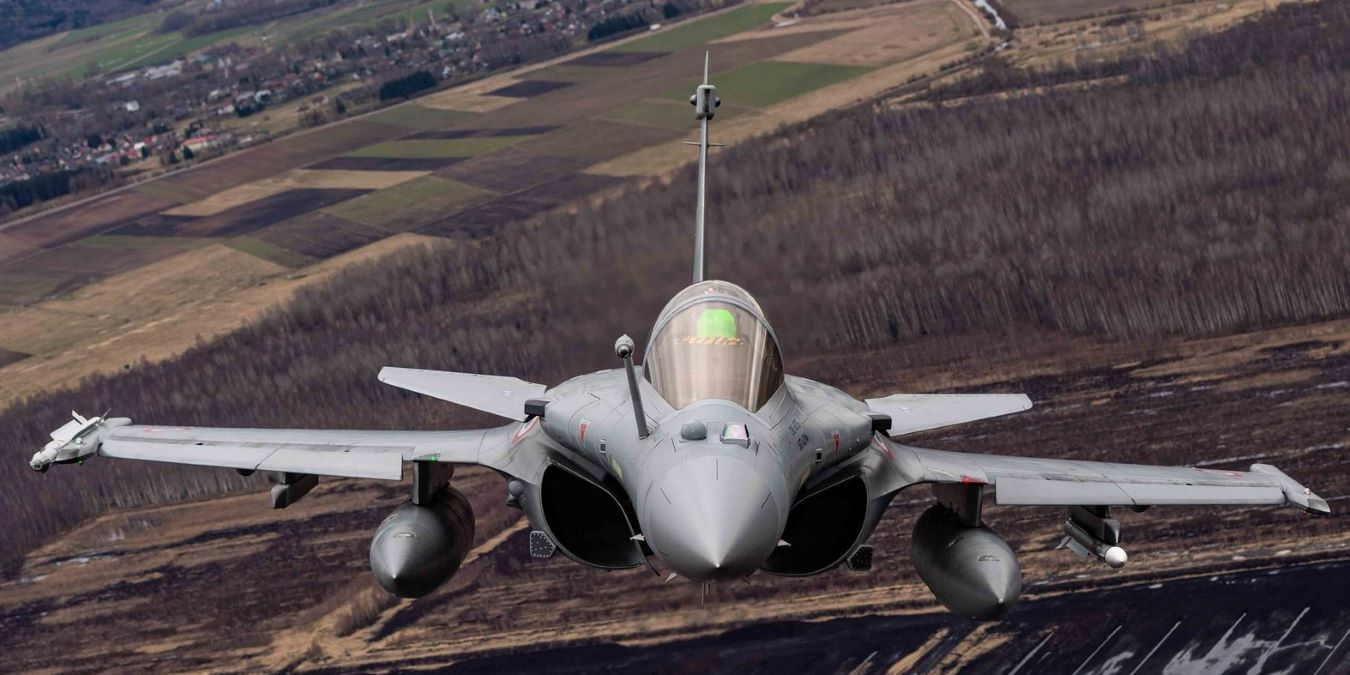Rafale: (28, 47, 1332, 623)
